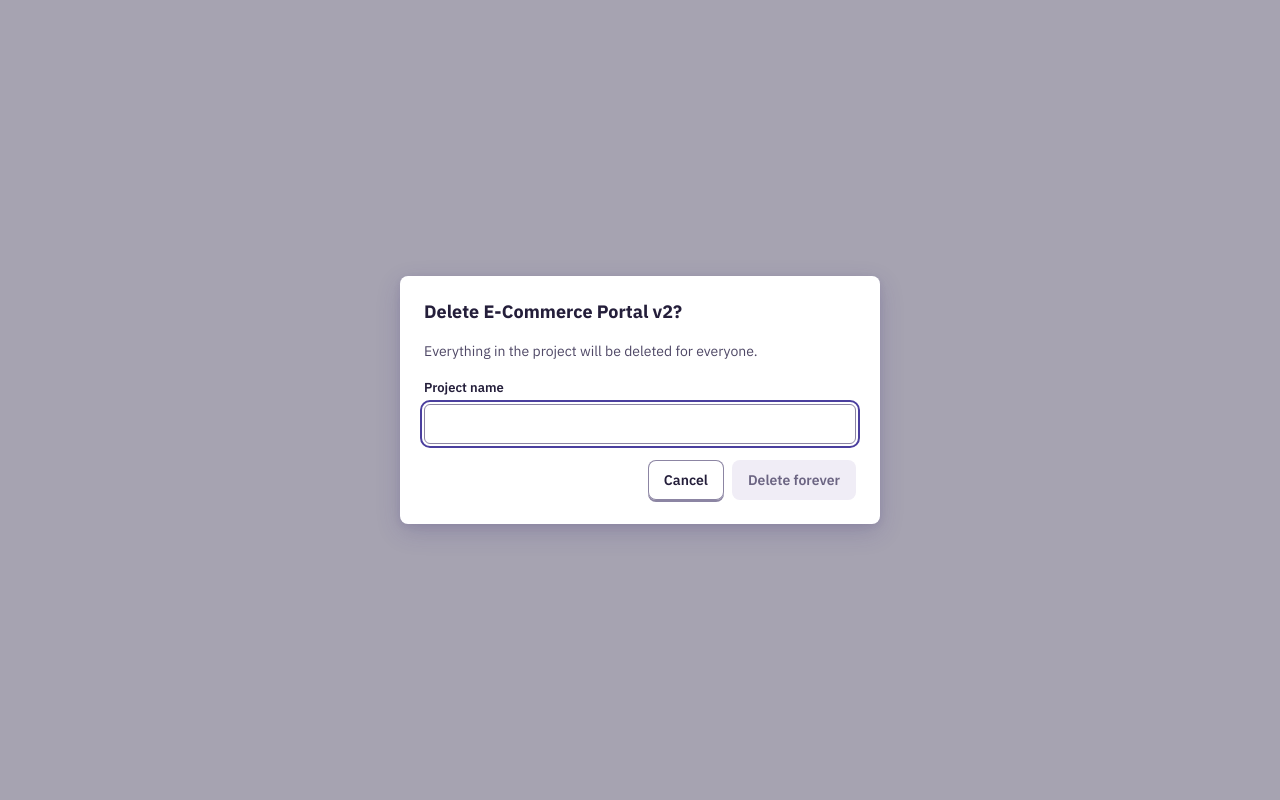
Test: ConfirmDialog › keeps a destructive action looking disabled until the name is typed
Later steps or results of the test are not shown.
Type "E-Commerce Portal v2" into the field labelled "Project name". click: (640, 424)
box: left=424, top=404, right=856, bottom=444
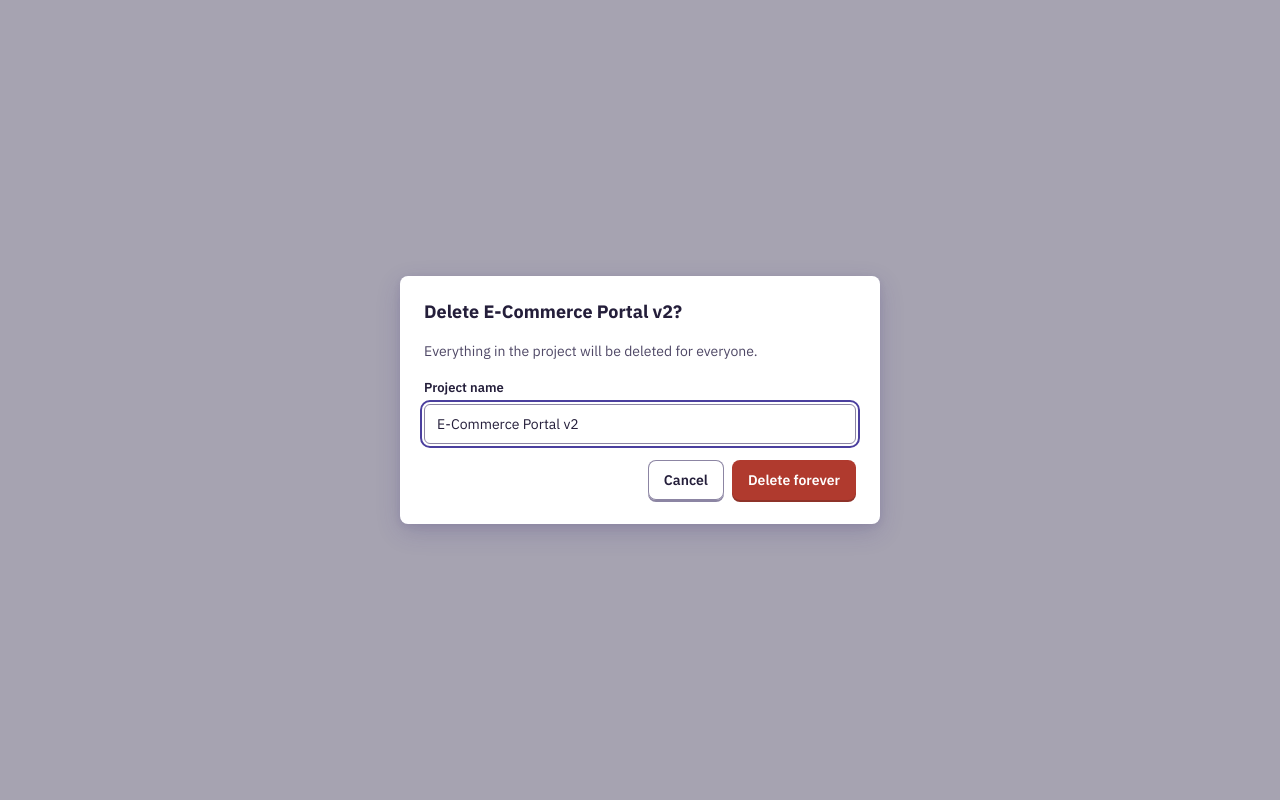
Now the button "Delete forever" does not have attribute aria-disabled, box left=732, top=460, right=856, bottom=500
